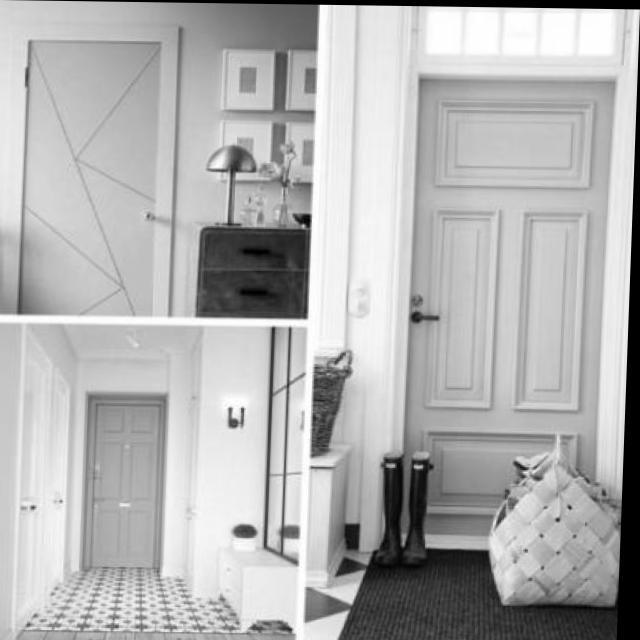door_handle: (409, 307, 453, 325)
